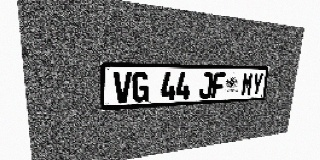4: (161, 72, 177, 101), (176, 72, 191, 100)
F: (211, 72, 226, 98)
G: (132, 72, 149, 103)
J: (199, 72, 213, 99)
M: (241, 73, 254, 96)
V: (113, 72, 132, 104)
Y: (251, 73, 264, 96)
